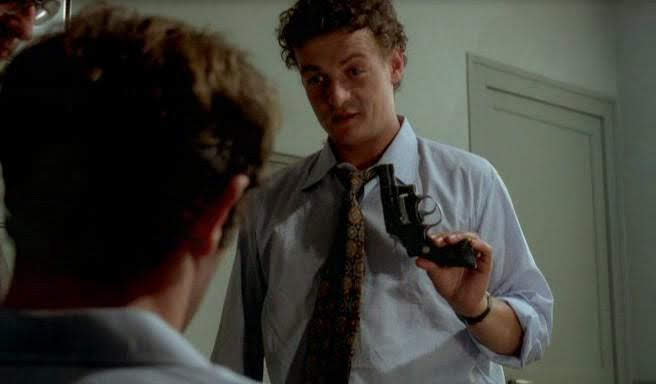gun: (358, 148, 529, 320)
